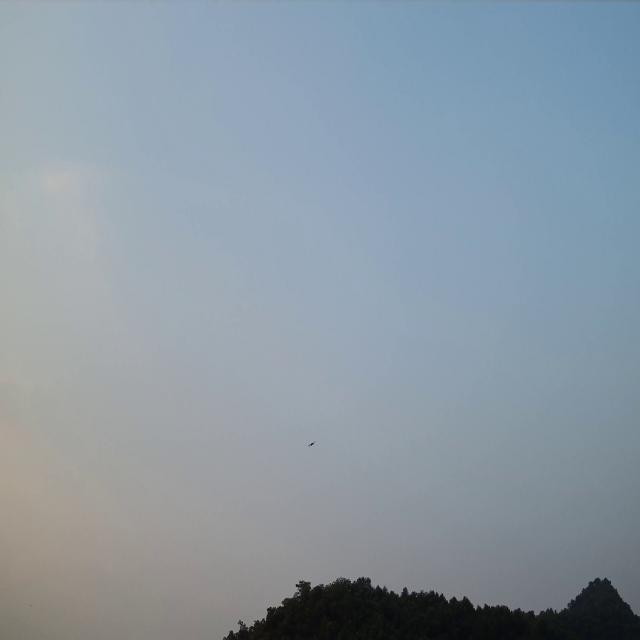drone: (308, 440, 316, 448)
